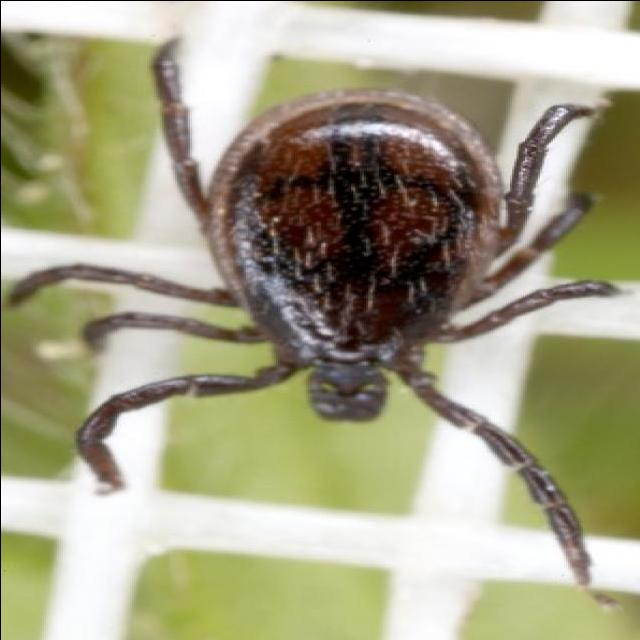Ixodes Ricinus-M: (11, 37, 638, 588)
